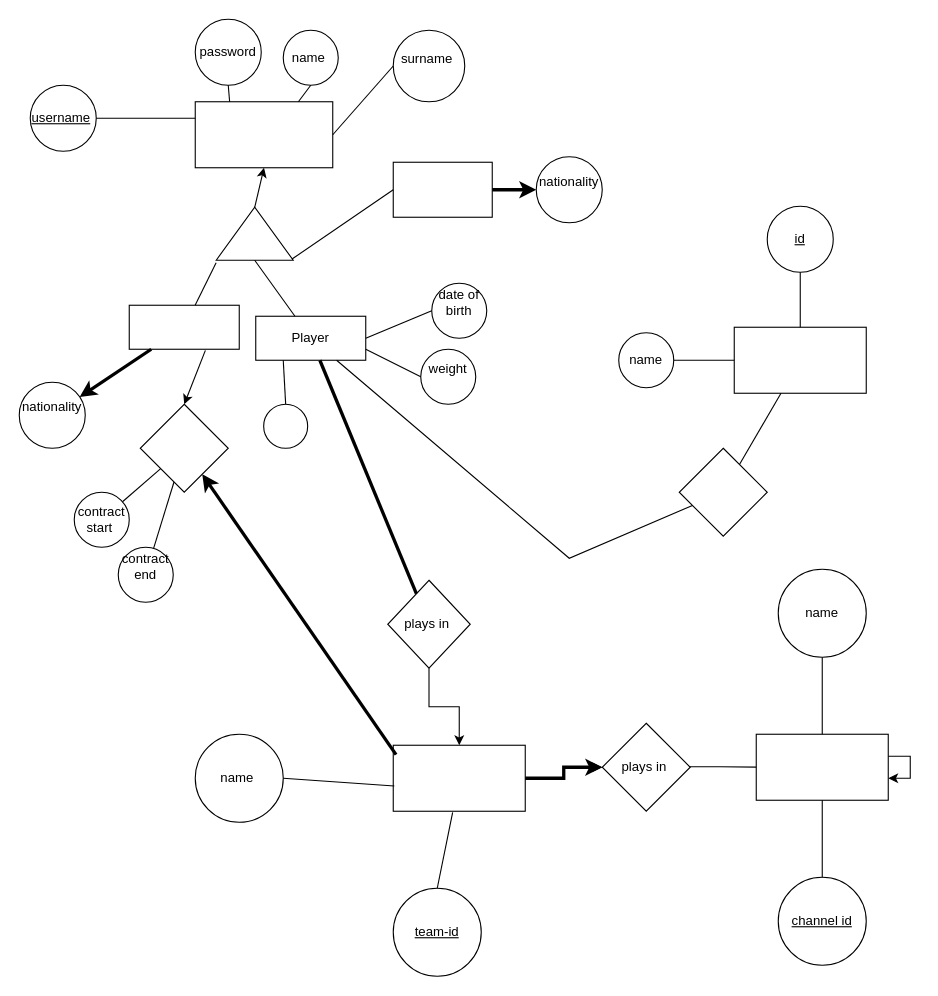
This 938x996 diagram has some shape labels left out. Each missing label, with the centre of its shape:
"Coach" belongs at (x=183, y=326).
"contract" belongs at (x=183, y=447).
"height" belongs at (x=285, y=425).
"ISA" belongs at (x=254, y=233).
"Jury" belongs at (x=442, y=189).
"plays as" belongs at (x=722, y=491).
"Position" belongs at (x=799, y=359).
"team" belongs at (x=458, y=777).
"TV-channel" belongs at (x=821, y=766).
"Users" belongs at (x=263, y=134).
